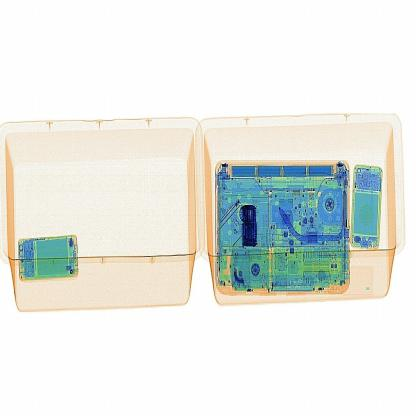scissors: (228, 198, 268, 255)
